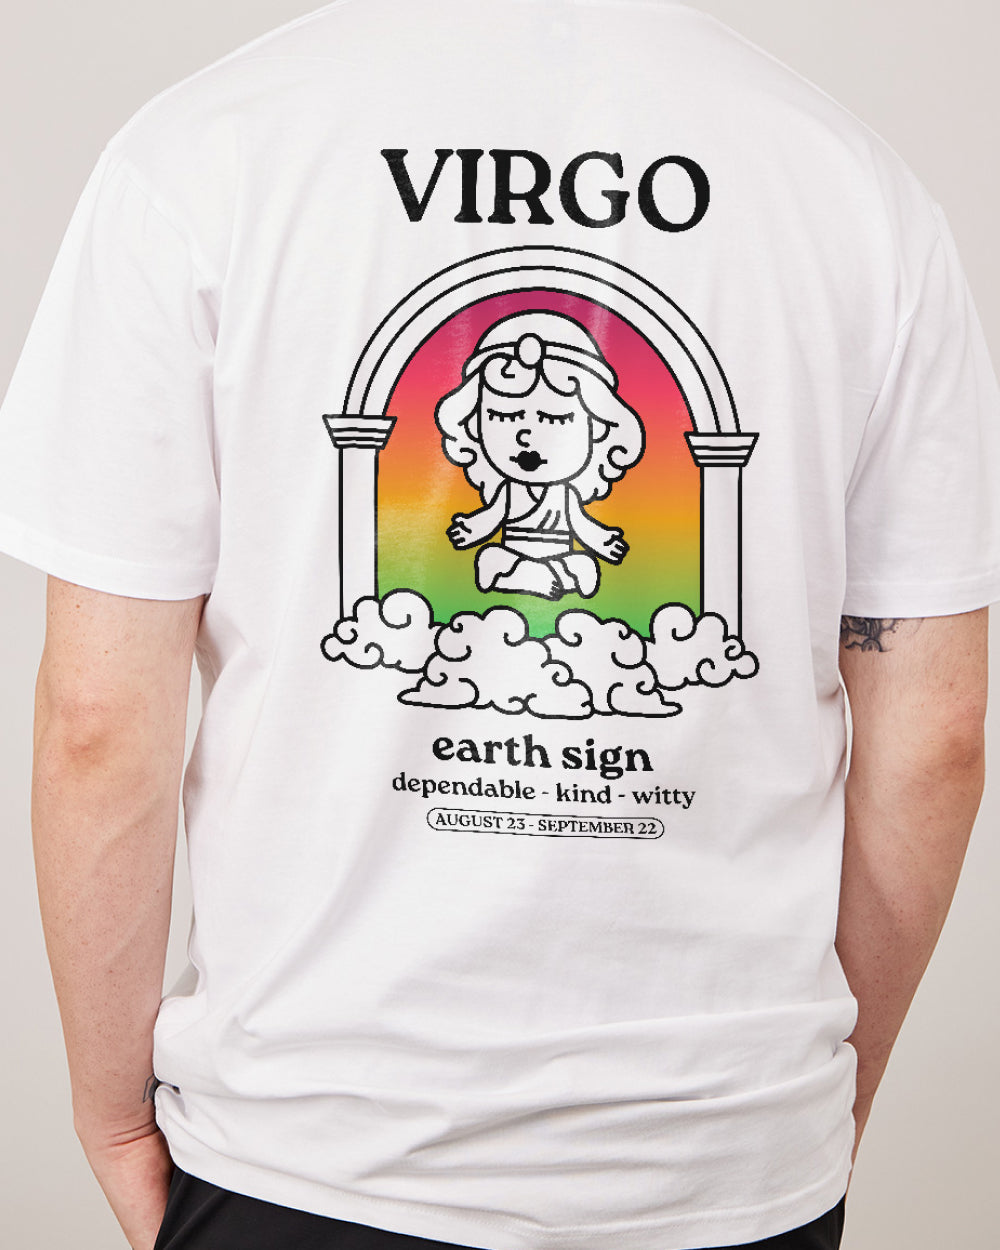design: (317, 143, 765, 849)
